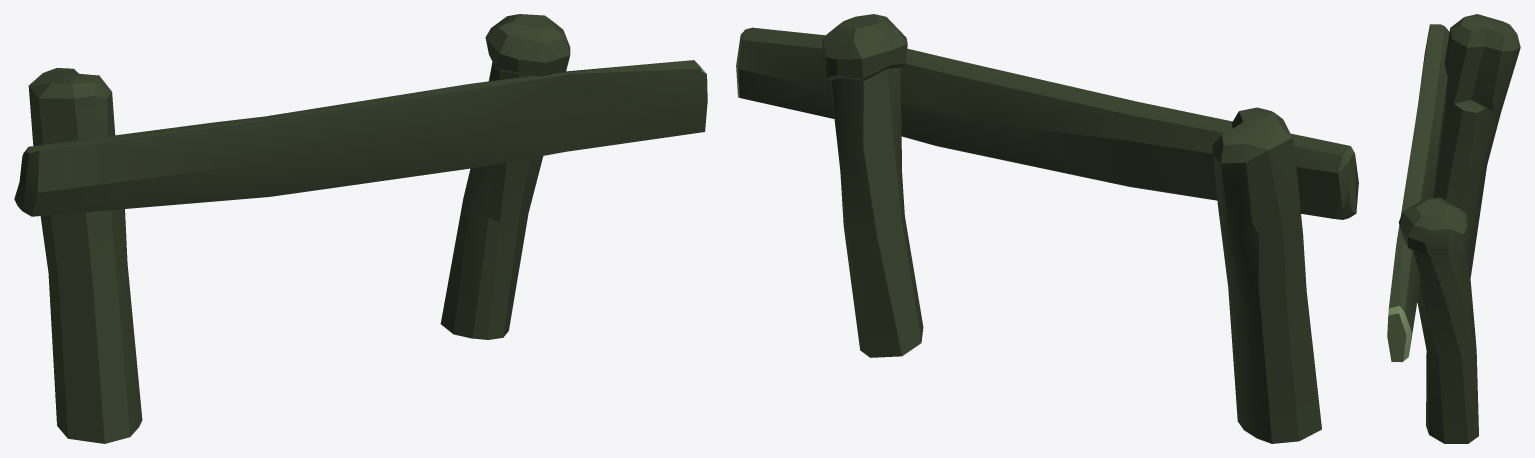
The model's file is EA_Fence_01c.glb.
The picture shows the model from 3 angles, left to right: view 1: azimuth 30°, elevation 25°; view 2: azimuth 150°, elevation 25°; view 3: azimuth 270°, elevation 25°; orthographic projection. The views are drawn at different scales.
Parts seen in each view (by area): view 1: EA_Fence_01c; view 2: EA_Fence_01c; view 3: EA_Fence_01c.
Part boxes in pixels (x1=…): EA_Fence_01c: x1=14, y1=14, x2=707, y2=443; EA_Fence_01c: x1=736, y1=14, x2=1358, y2=443; EA_Fence_01c: x1=1387, y1=14, x2=1520, y2=443.
Bounding box in the file's own units: 2.03 × 1.02 × 0.4602.
1 material, 1 textured.
